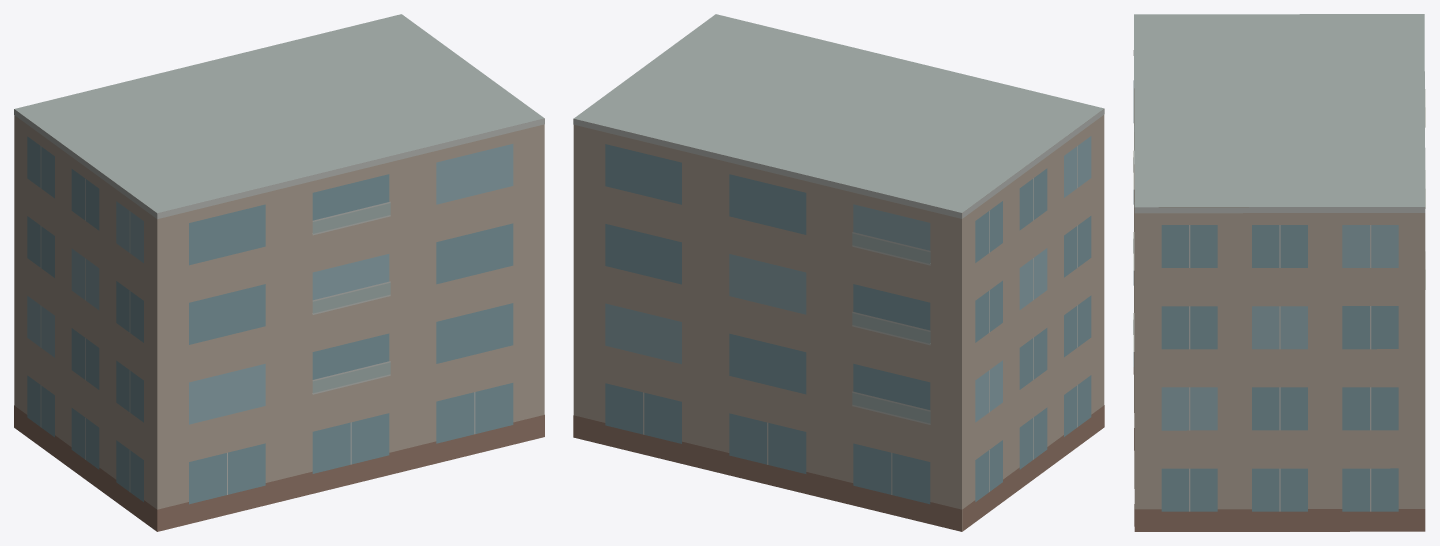
File: survey-upis-32953482.glb
3 views of the same model, side by side, from view 1: azimuth 30°, elevation 25°; view 2: azimuth 150°, elevation 25°; view 3: azimuth 270°, elevation 25° (orthographic).
Visible parts, largest first — view 1: survey-upis-32953482.tmp; view 2: survey-upis-32953482.tmp; view 3: survey-upis-32953482.tmp.
Part boxes in pixels (left/top/right/bottom): survey-upis-32953482.tmp: left=14, top=14, right=544, bottom=531; survey-upis-32953482.tmp: left=573, top=14, right=1104, bottom=531; survey-upis-32953482.tmp: left=1133, top=14, right=1425, bottom=531.
Bounding box in the file's own units: 16.59 × 13 × 10.62.
